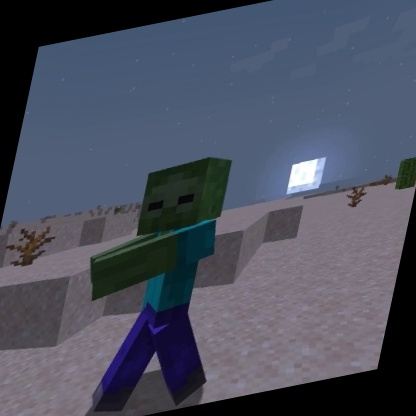zombie: (47, 142, 263, 416)
